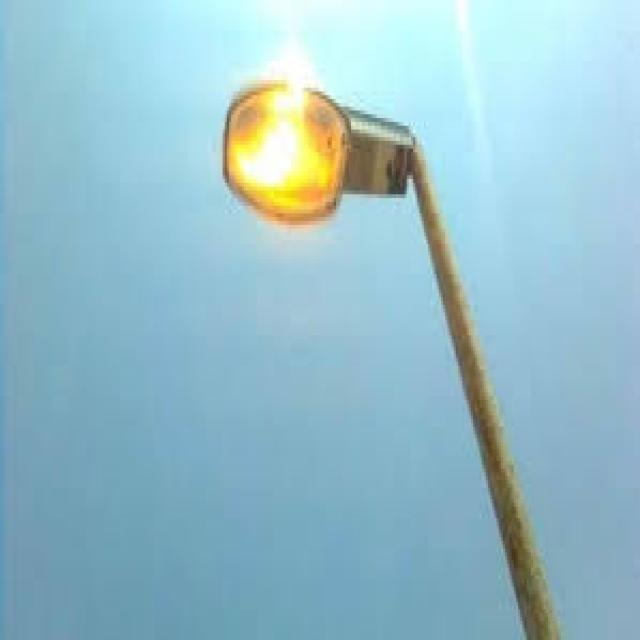Street Light: (223, 76, 563, 640)
